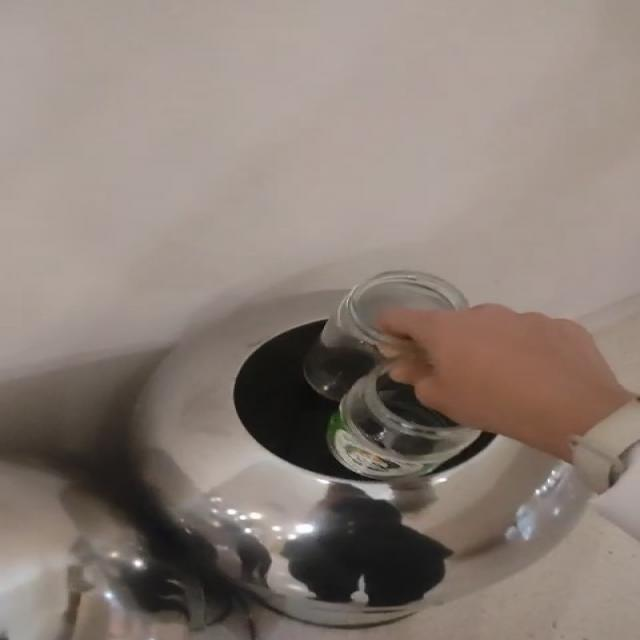glass: (303, 271, 480, 481)
